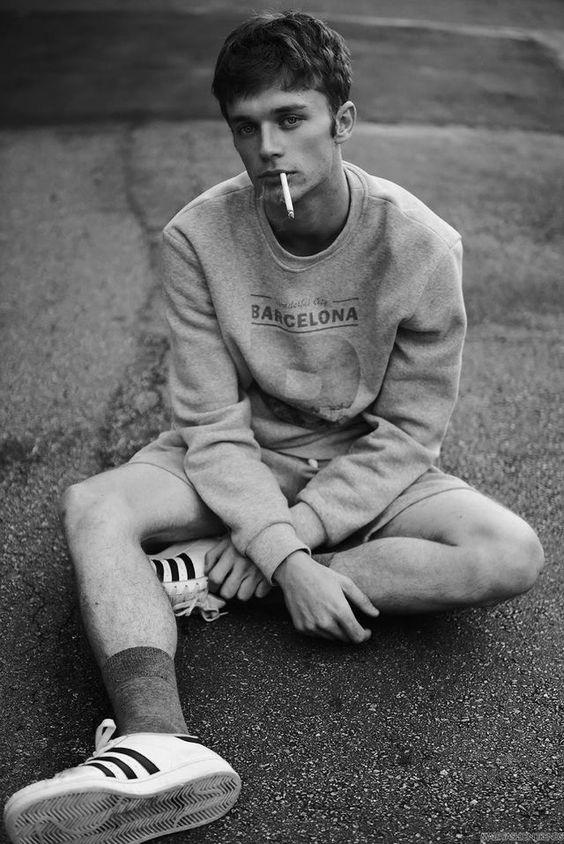cigarette: (280, 172, 295, 220)
